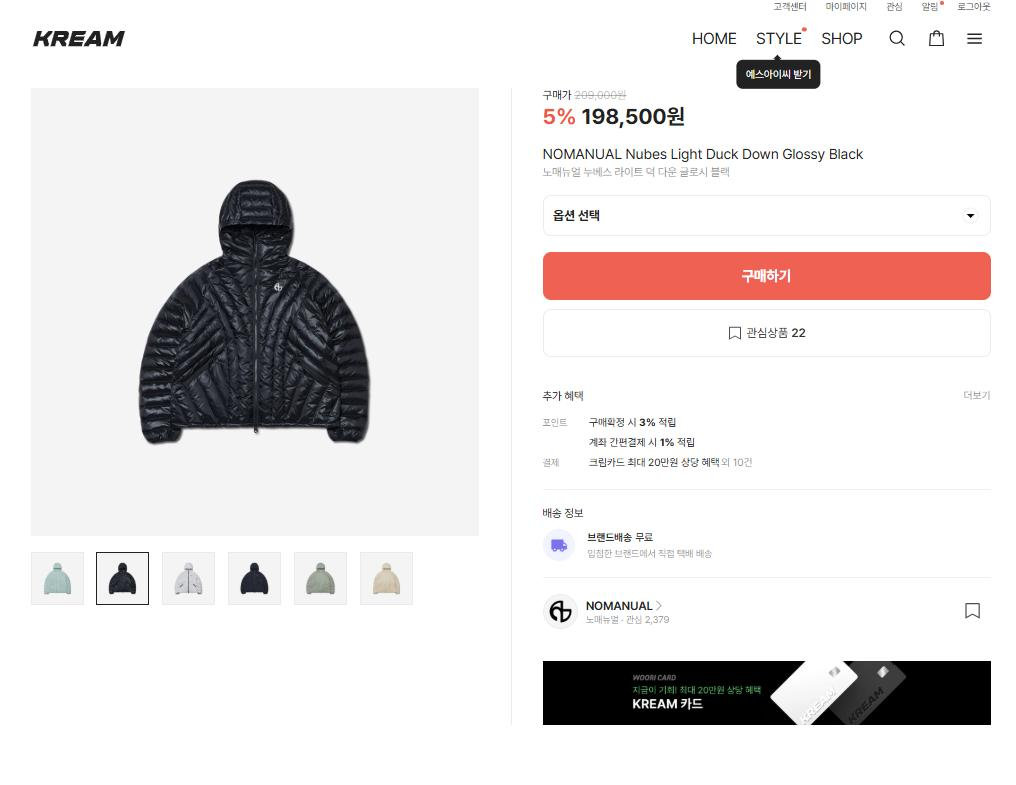button: (541, 306, 994, 360), (542, 250, 994, 302), (97, 550, 149, 606), (294, 549, 346, 605), (163, 550, 215, 605), (360, 549, 412, 604), (30, 551, 83, 604), (227, 550, 280, 603), (753, 24, 812, 49), (688, 27, 741, 50), (959, 25, 991, 55), (820, 28, 865, 49), (959, 596, 987, 628), (925, 23, 953, 54), (824, 0, 870, 16), (770, 0, 812, 16), (954, 0, 996, 16), (886, 26, 911, 50), (961, 388, 993, 405), (916, 0, 949, 16), (879, 0, 909, 16)
checkbox: (541, 193, 995, 238)
popup: (544, 660, 991, 725), (731, 51, 827, 98)
